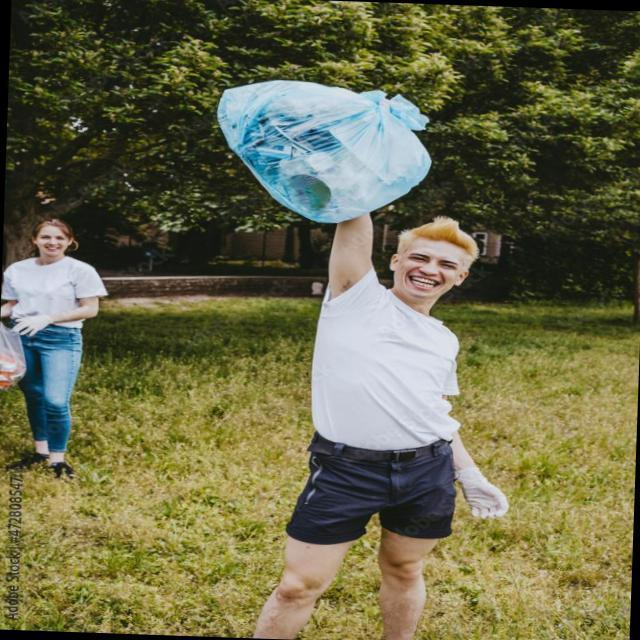Garbage_Bag: (206, 72, 450, 229)
